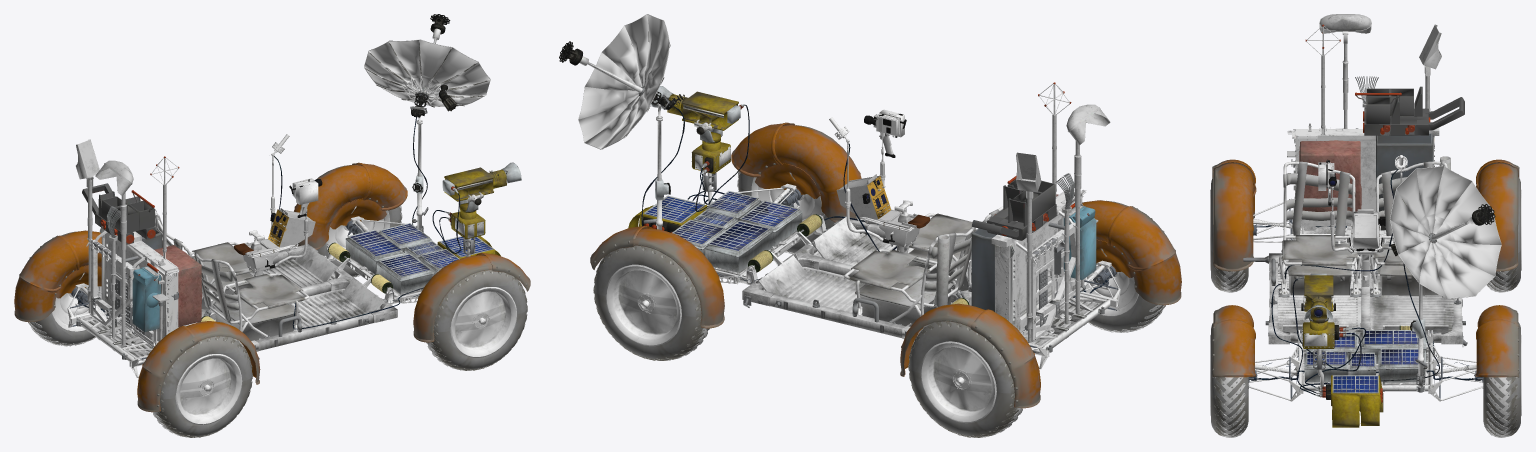
Rendered from lrv.glb.
3 views of the same model, side by side, from view 1: azimuth 30°, elevation 25°; view 2: azimuth 150°, elevation 25°; view 3: azimuth 270°, elevation 25° (orthographic). The views are drawn at different scales.
Visible parts, largest first — view 1: Object_8, Object_16, Object_11, Object_6, Object_13, Object_17, Object_12, Object_14; view 2: Object_8, Object_16, Object_11, Object_6, Object_13, Object_17, Object_12, Object_14; view 3: Object_8, Object_16, Object_11, Object_17, Object_13, Object_6, Object_14, Object_12.
Part boxes in pixels (x1=…): Object_8: x1=14, y1=162, x2=530, y2=437; Object_16: x1=76, y1=139, x2=202, y2=347; Object_11: x1=274, y1=14, x2=521, y2=329; Object_6: x1=70, y1=242, x2=423, y2=367; Object_13: x1=155, y1=209, x2=309, y2=340; Object_17: x1=364, y1=39, x2=490, y2=106; Object_12: x1=234, y1=134, x2=322, y2=276; Object_14: x1=67, y1=215, x2=485, y2=377; Object_8: x1=590, y1=122, x2=1181, y2=437; Object_16: x1=971, y1=82, x2=1110, y2=342; Object_11: x1=559, y1=31, x2=896, y2=272; Object_6: x1=713, y1=214, x2=1117, y2=357; Object_13: x1=843, y1=206, x2=1003, y2=326; Object_17: x1=578, y1=14, x2=669, y2=149; Object_12: x1=829, y1=109, x2=930, y2=252; Object_14: x1=691, y1=147, x2=1120, y2=369; Object_8: x1=1210, y1=159, x2=1521, y2=437; Object_16: x1=1287, y1=14, x2=1464, y2=230; Object_11: x1=1271, y1=169, x2=1495, y2=427; Object_17: x1=1389, y1=165, x2=1501, y2=298; Object_13: x1=1271, y1=156, x2=1450, y2=297; Object_6: x1=1243, y1=226, x2=1467, y2=393; Object_14: x1=1248, y1=128, x2=1483, y2=401; Object_12: x1=1318, y1=155, x2=1407, y2=286.
Size of the model in its own units: 3.1 by 1.77 by 1.78.
9 materials, 7 textured.
